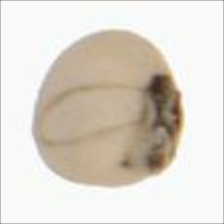L5: (37, 83, 149, 151), (142, 68, 185, 154)
L6: (28, 25, 187, 194)
